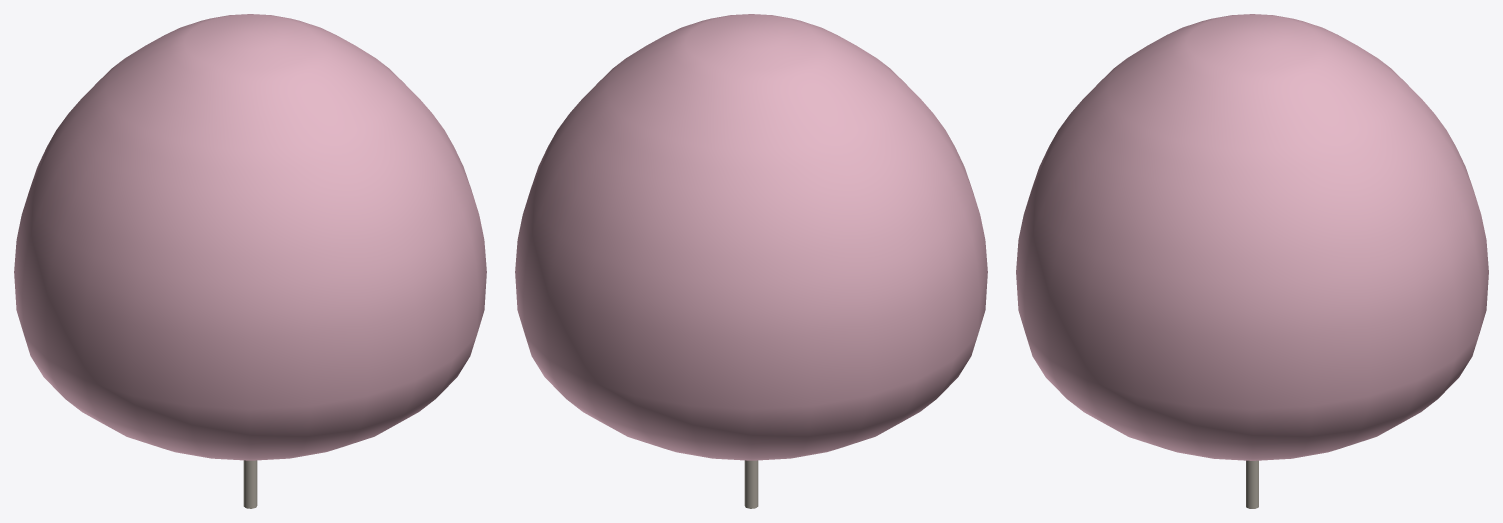
The model's file is ChilopsisLinearis.glb.
3 renders of one model, left to right at view 1: azimuth 30°, elevation 25°; view 2: azimuth 150°, elevation 25°; view 3: azimuth 270°, elevation 25°, orthographic.
Visible parts, largest first — view 1: Desert_Willow__Schematic_LOD3; view 2: Desert_Willow__Schematic_LOD3; view 3: Desert_Willow__Schematic_LOD3.
Boxes of the visible parts, box(x1,y1,x2,y2) form: Desert_Willow__Schematic_LOD3: box(14, 14, 486, 508); Desert_Willow__Schematic_LOD3: box(515, 14, 987, 508); Desert_Willow__Schematic_LOD3: box(1016, 14, 1488, 508).
Bounding box in the file's own units: 5.42 × 5.98 × 5.42.
